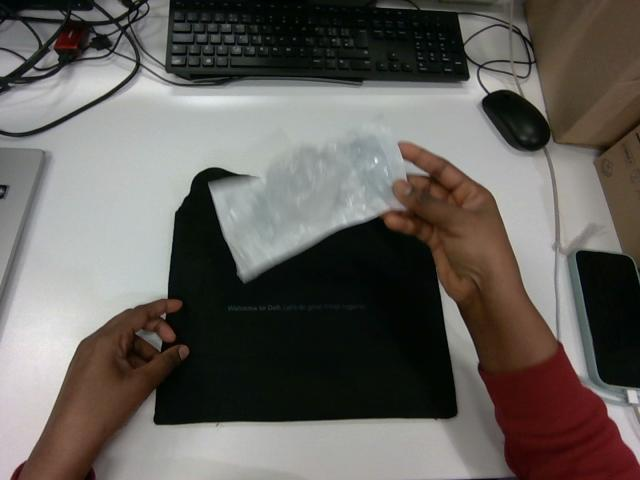gallipot: (209, 125, 405, 281)
